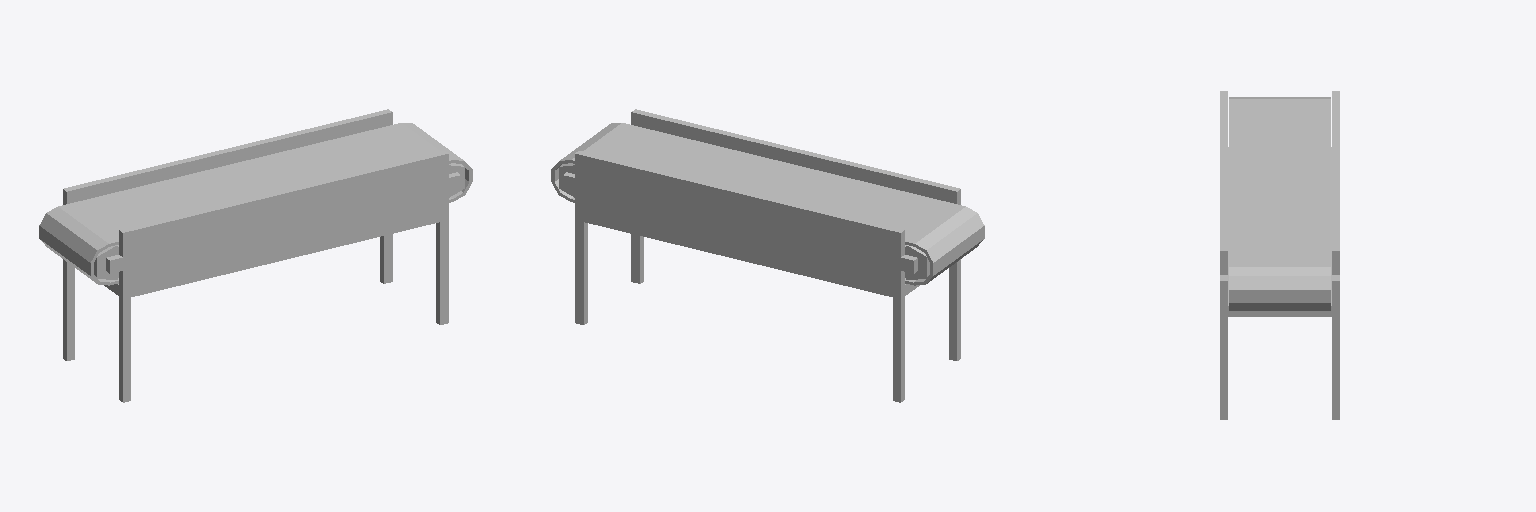
File: Conveyor_Test_01.obj
The picture shows the model from 3 angles: view 1: azimuth 30°, elevation 25°; view 2: azimuth 150°, elevation 25°; view 3: azimuth 270°, elevation 25°; orthographic projection.
Visible parts, largest first — view 1: Conveyor_Belt Stand, Conveyor_Belt Belt_Low; view 2: Conveyor_Belt Stand, Conveyor_Belt Belt_Low; view 3: Conveyor_Belt Belt_Low, Conveyor_Belt Stand.
Part boxes in pixels (left/top/right/bottom): Conveyor_Belt Stand: left=63, top=109, right=460, bottom=402; Conveyor_Belt Belt_Low: left=39, top=123, right=472, bottom=285; Conveyor_Belt Stand: left=563, top=109, right=960, bottom=402; Conveyor_Belt Belt_Low: left=551, top=123, right=984, bottom=285; Conveyor_Belt Belt_Low: left=1229, top=97, right=1330, bottom=310; Conveyor_Belt Stand: left=1220, top=91, right=1339, bottom=419.
Size of the model in its own units: 8.62 by 3.66 by 2.37.